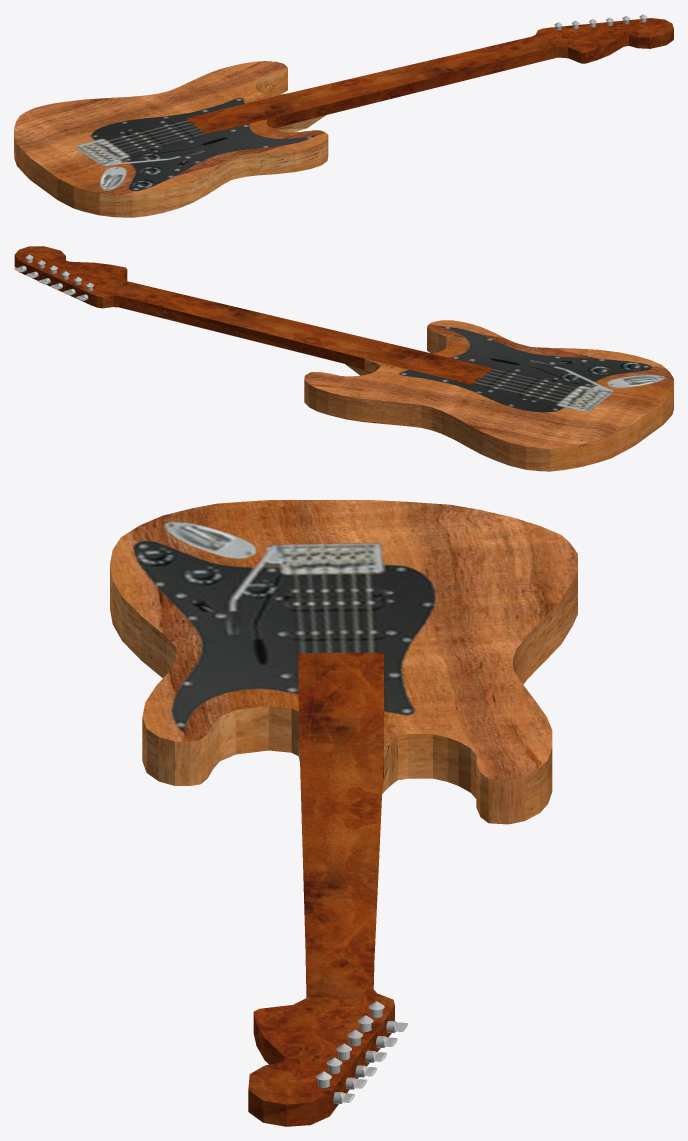
File: guitar.dae
3 views of the same model, one above another, from view 1: azimuth 30°, elevation 25°; view 2: azimuth 150°, elevation 25°; view 3: azimuth 270°, elevation 25° (orthographic). The views are drawn at different scales.
Visible parts, largest first — view 1: Guitar, Knobs; view 2: Guitar, Knobs; view 3: Guitar, Knobs.
Part boxes in pixels (x1,y1,x2,y2): Guitar: (14,18,673,217); Knobs: (554,14,647,30); Guitar: (14,246,673,471); Knobs: (14,254,93,300); Guitar: (110,500,577,1126); Knobs: (316,1001,407,1103).
Bounding box in the file's own units: 9.47 × 3.1 × 0.4295.
Materials: 2 (2 with a texture image).
